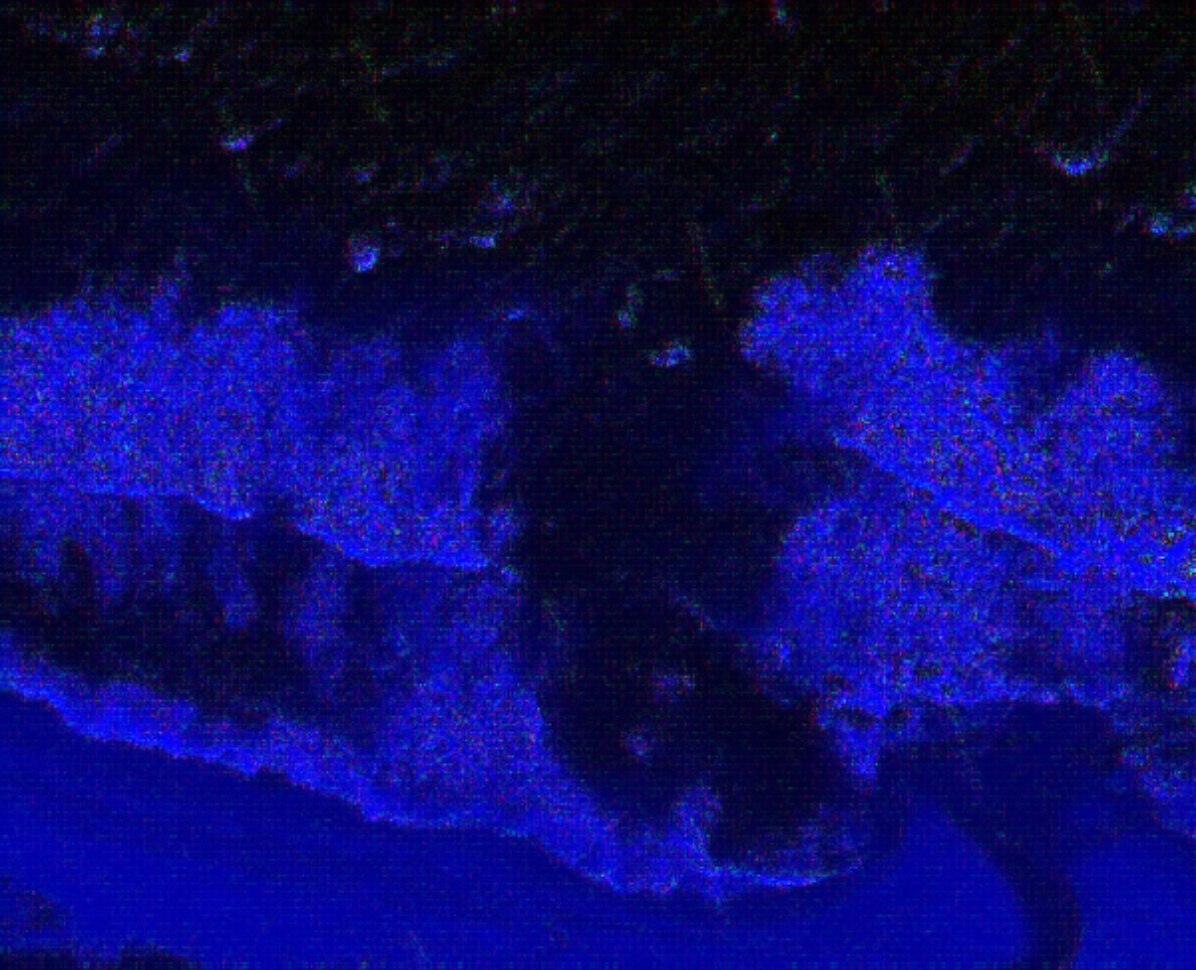rip_current: (412, 182, 881, 806)
